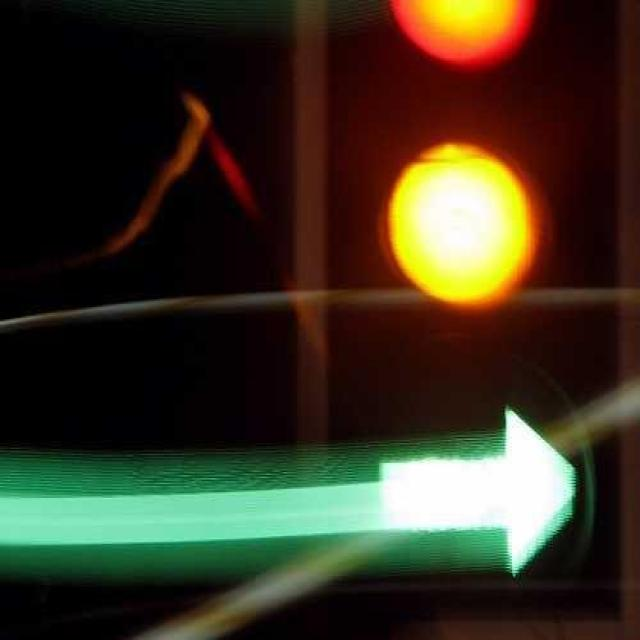Traffic Light -Yellow-: (368, 119, 552, 335)
